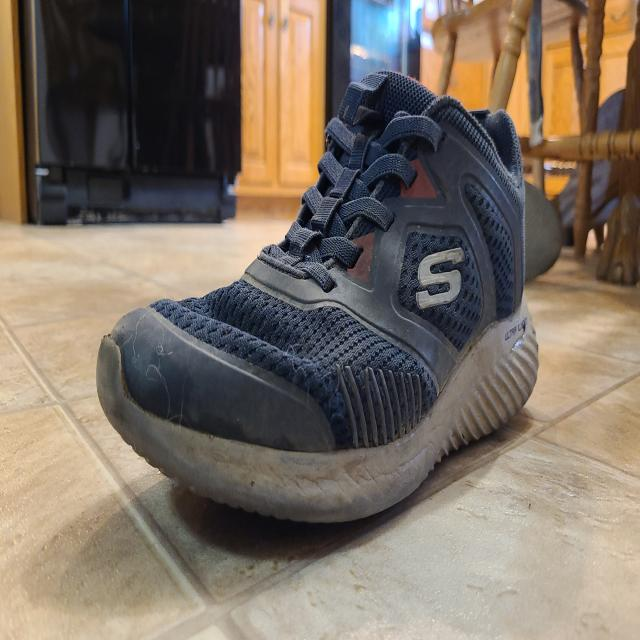shoe: (94, 66, 542, 525)
